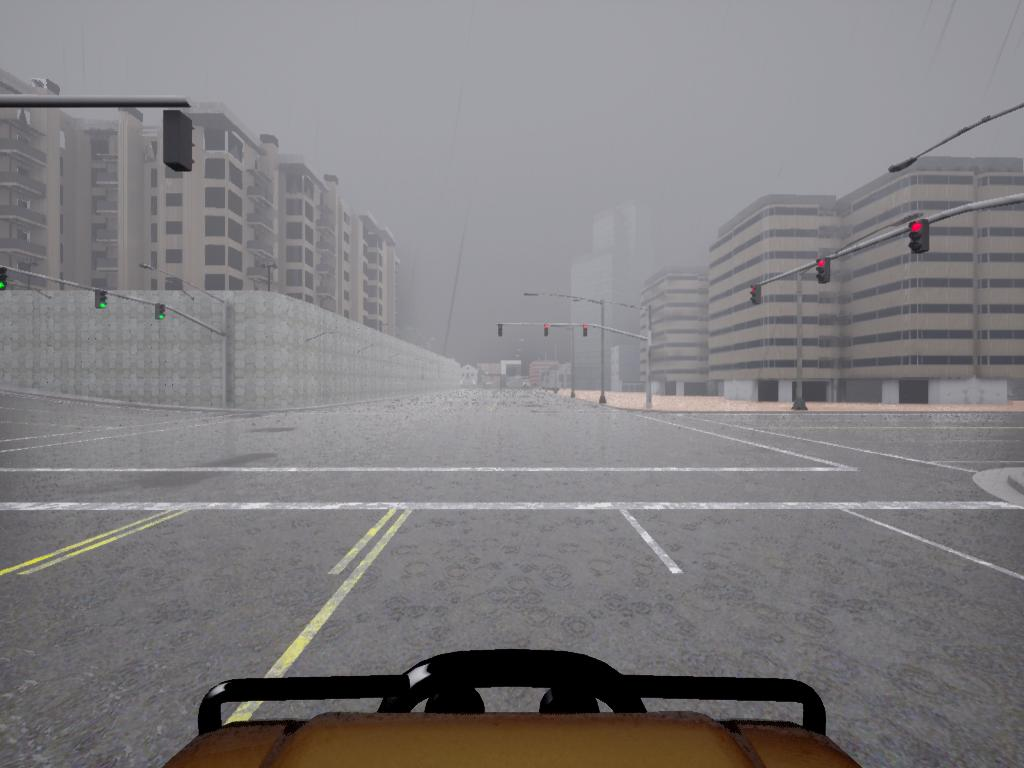traffic_light: (162, 114, 198, 177), (911, 220, 933, 257), (748, 283, 763, 306), (817, 259, 829, 285), (3, 267, 15, 290), (97, 290, 110, 311), (1, 268, 9, 292), (156, 307, 167, 323), (584, 324, 590, 340), (499, 323, 505, 339), (544, 325, 550, 337)
